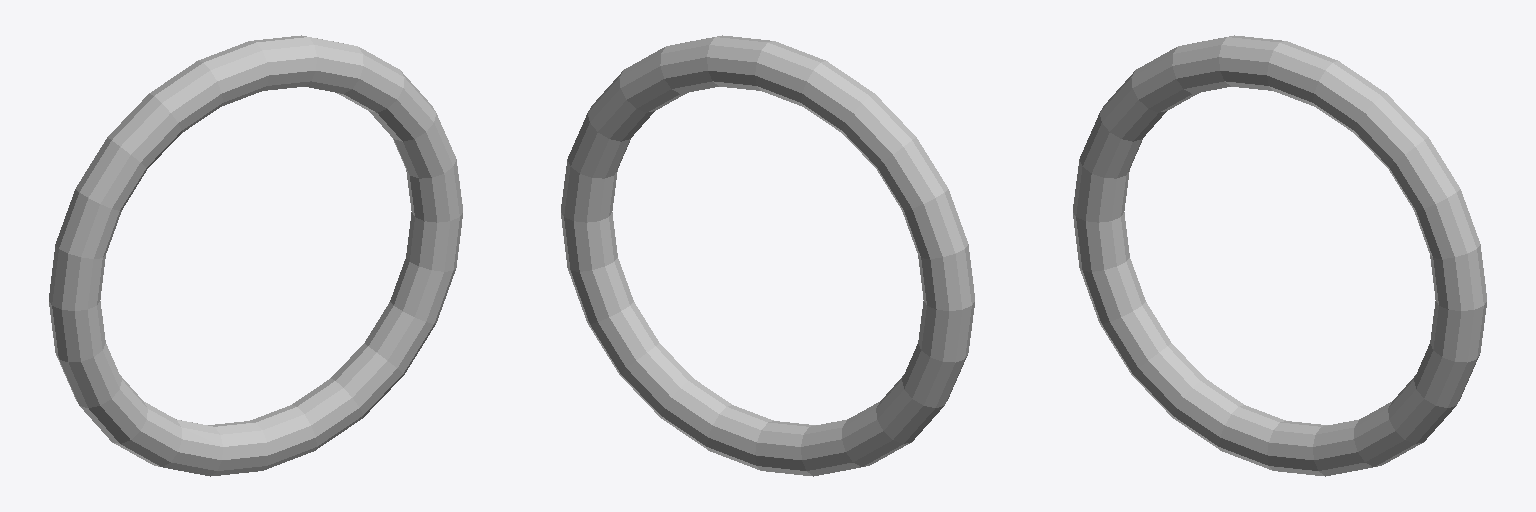
Rendered from basketBallRim.obj.
The picture shows the model from 3 angles: view 1: azimuth 30°, elevation 25°; view 2: azimuth 150°, elevation 25°; view 3: azimuth 330°, elevation 25°; orthographic projection.
Parts seen in each view (by area): view 1: rim; view 2: rim; view 3: rim.
Boxes of the visible parts, <box> form: rim: <box>49,35,462,476</box>; rim: <box>561,35,974,476</box>; rim: <box>1073,35,1486,476</box>.
Bounding box in the file's own units: 20.23 × 20.23 × 2.23.